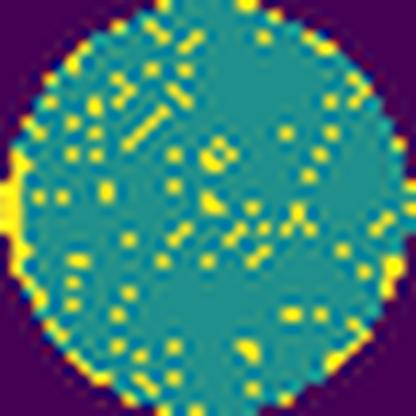Edge-Loc: (0, 150, 54, 311)
